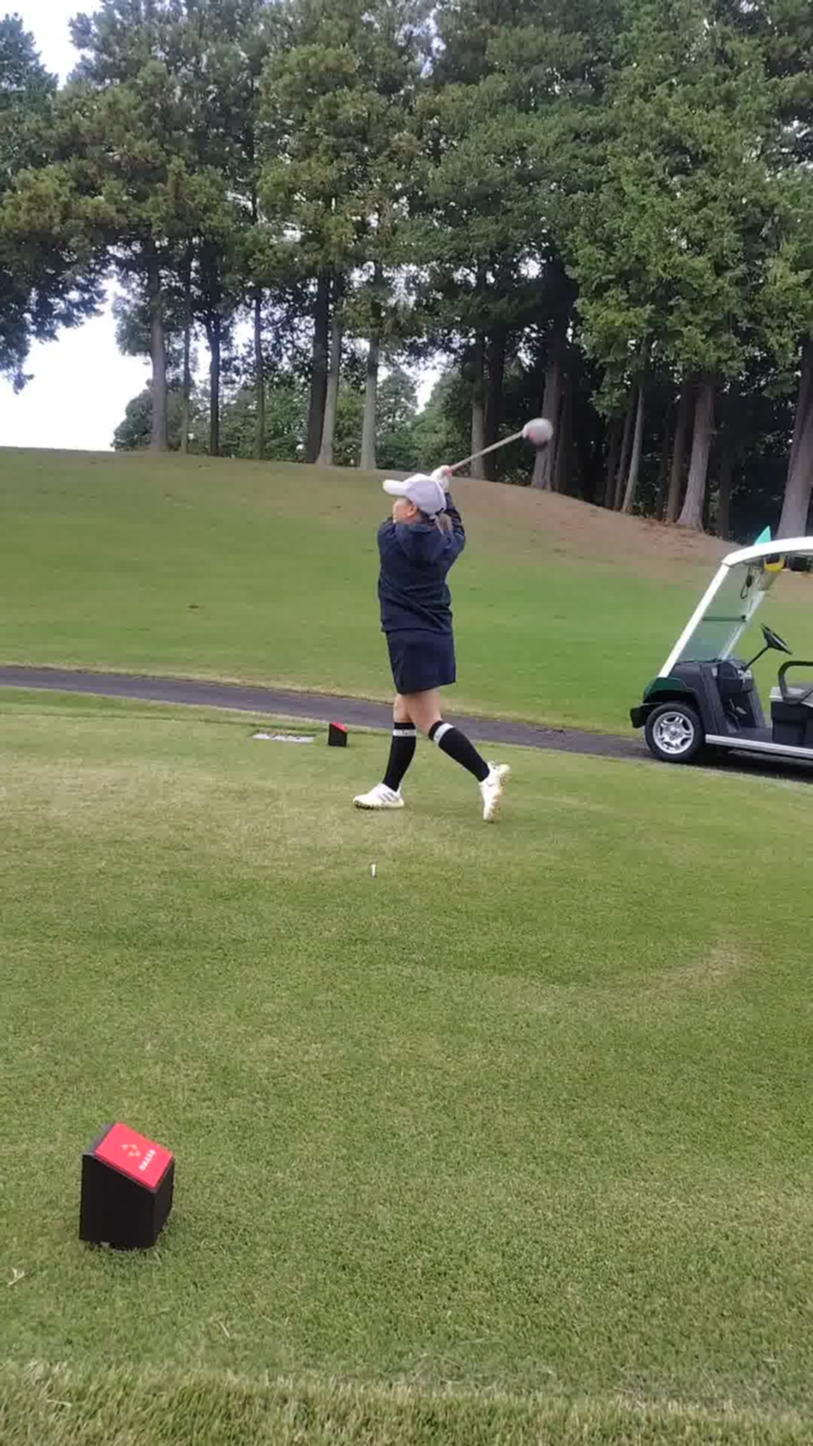clubhead: (443, 371, 603, 528)
